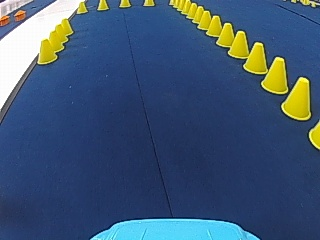cone: (281, 75, 311, 120), (260, 56, 289, 94), (243, 41, 268, 73), (227, 30, 250, 58), (37, 36, 57, 64), (46, 24, 66, 52), (215, 22, 235, 47), (205, 15, 222, 36), (308, 121, 319, 149), (57, 18, 73, 37), (197, 10, 212, 29), (192, 6, 204, 23), (186, 3, 197, 18), (96, 0, 109, 11), (76, 1, 87, 13), (182, 1, 190, 13), (119, 0, 130, 8)
